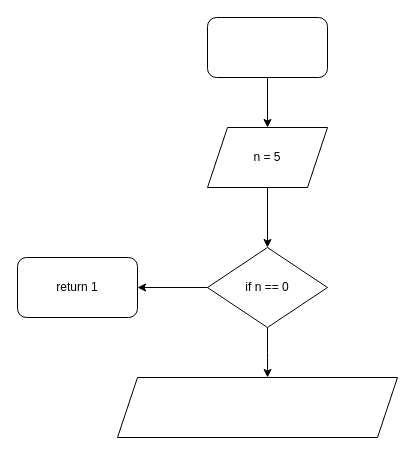
Image size: 415x455. Some labels were removed from this diagram. Here are the shapes that lost their labels. From the top down, the box of each, then its label:
(206, 16, 328, 78): factorial ( n )
(116, 376, 398, 438): return n * factorial ( n -1 )
